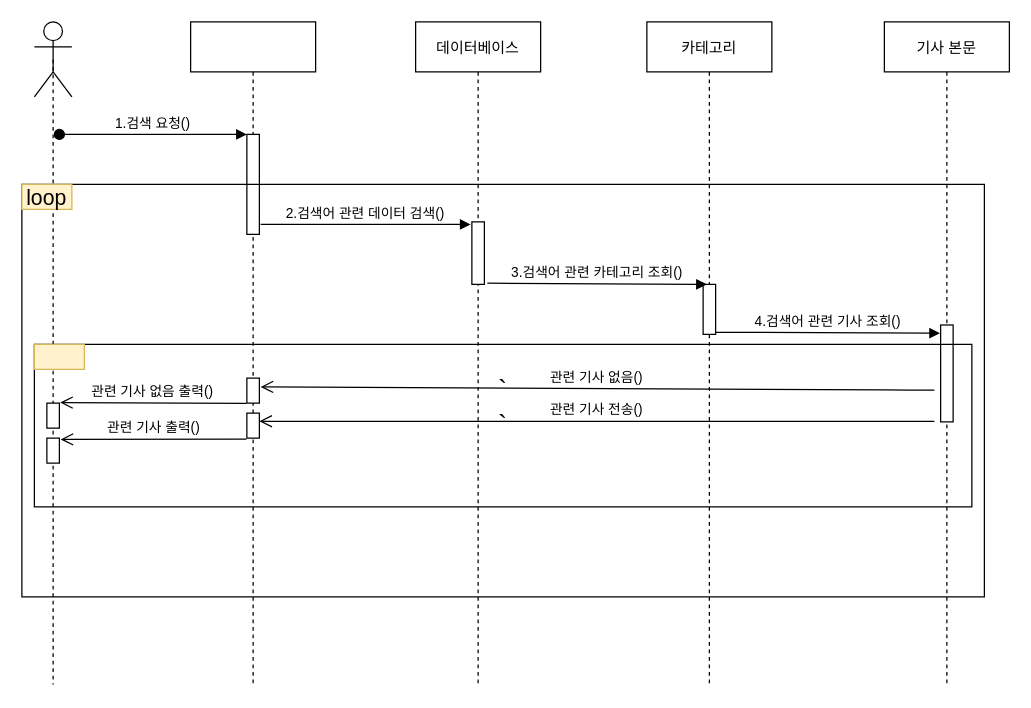
The diagram is 1031 pixels wide and 708 high, and some of its shapes have lost their labels. Here are the shapes that lost their labels. From the top down, the box of each, then its label:
(33, 21, 72, 97): 사용자
(33, 343, 84, 369): alt
(189, 21, 316, 684): 검색엔진
